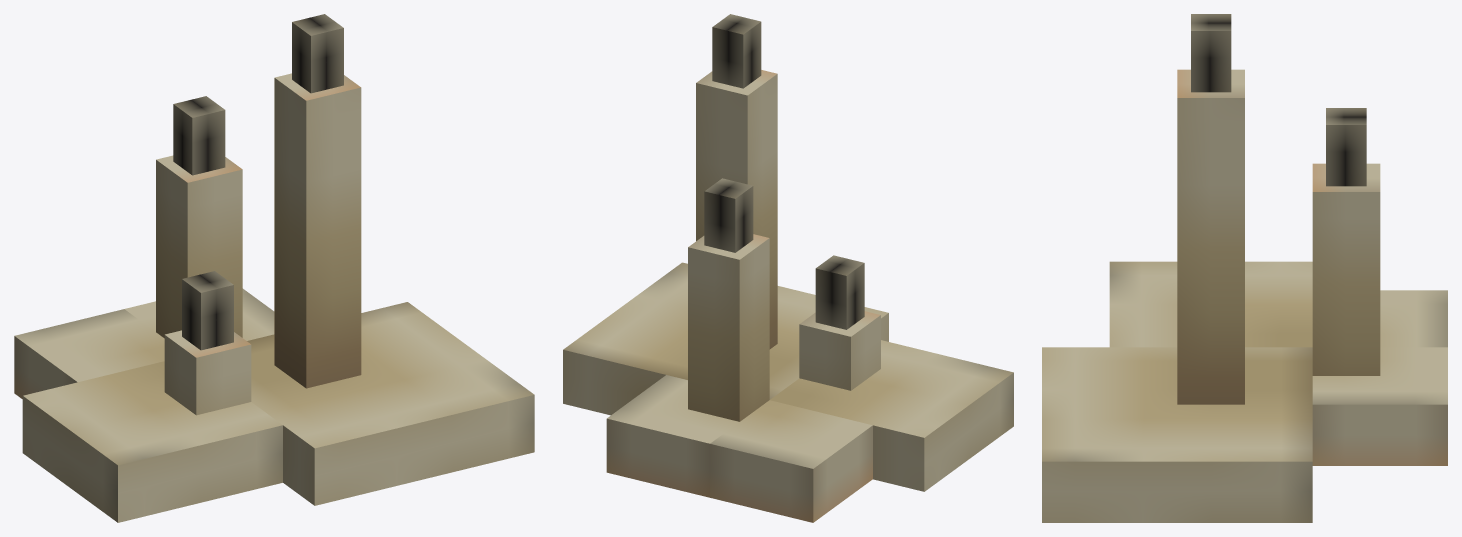
The model's file is candle_arrangement_04.fbx.
3 views of the same model, side by side, from view 1: azimuth 30°, elevation 25°; view 2: azimuth 150°, elevation 25°; view 3: azimuth 270°, elevation 25° (orthographic). The views are drawn at different scales.
Visible parts, largest first — view 1: candle_arrangement_04; view 2: candle_arrangement_04; view 3: candle_arrangement_04.
Part boxes in pixels (box(x1,y1,x2,y2)): candle_arrangement_04: box(14, 14, 534, 522); candle_arrangement_04: box(563, 14, 1013, 522); candle_arrangement_04: box(1042, 14, 1447, 522).
Size of the model in its own units: 7 by 7 by 6.
